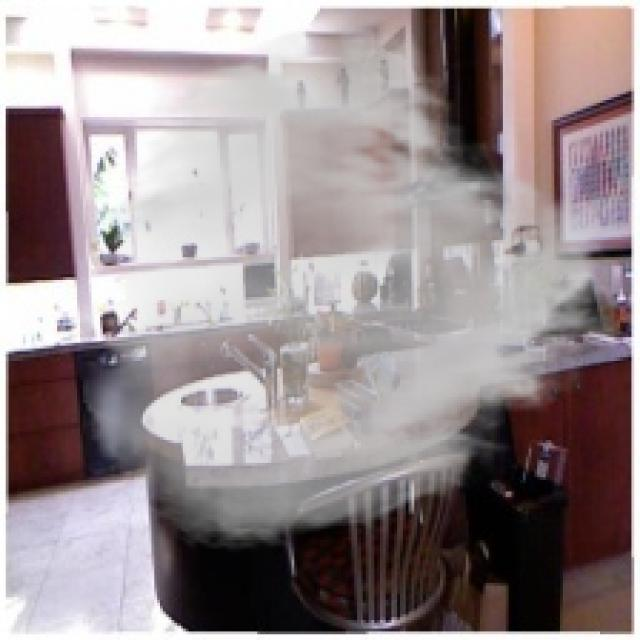Smoke: (77, 22, 634, 554)
